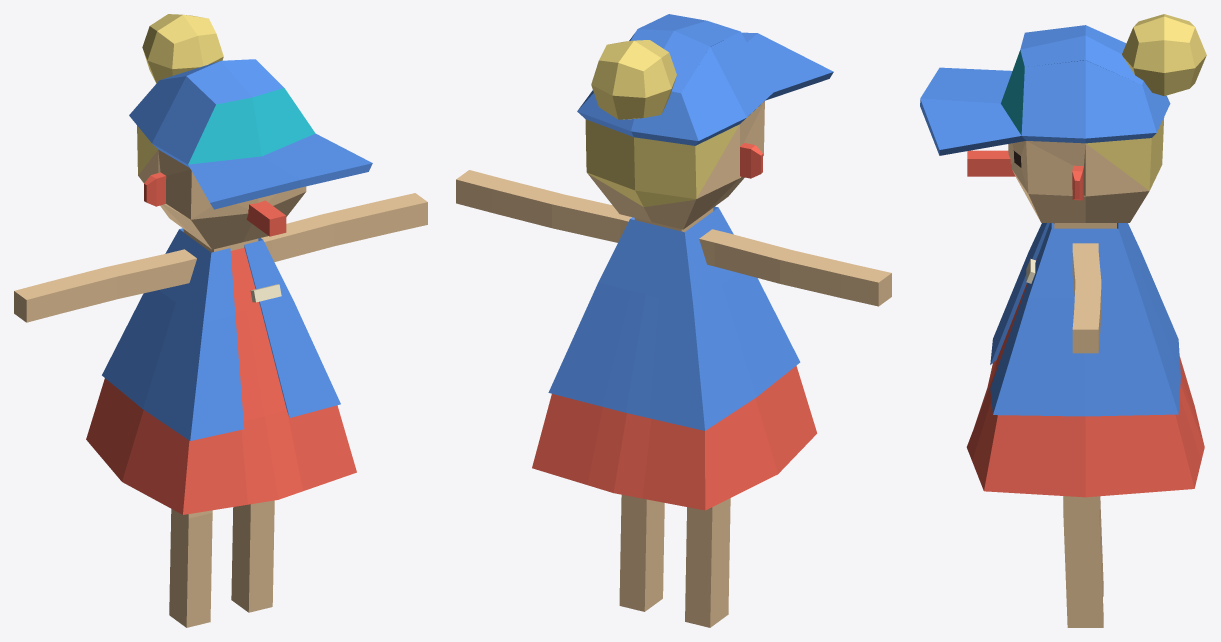
The model's file is character.fbx.
The picture shows the model from 3 angles, left to right: view 1: azimuth 30°, elevation 25°; view 2: azimuth 150°, elevation 25°; view 3: azimuth 270°, elevation 25°; orthographic projection. The views are drawn at different scales.
Parts seen in each view (by area): view 1: dafna; view 2: dafna; view 3: dafna.
Boxes of the visible parts, <box> form: dafna: <box>14,14,427,627</box>; dafna: <box>456,14,891,627</box>; dafna: <box>920,14,1206,627</box>.
Bounding box in the file's own units: 154 × 209 × 92.14.
1 material, 1 textured.
